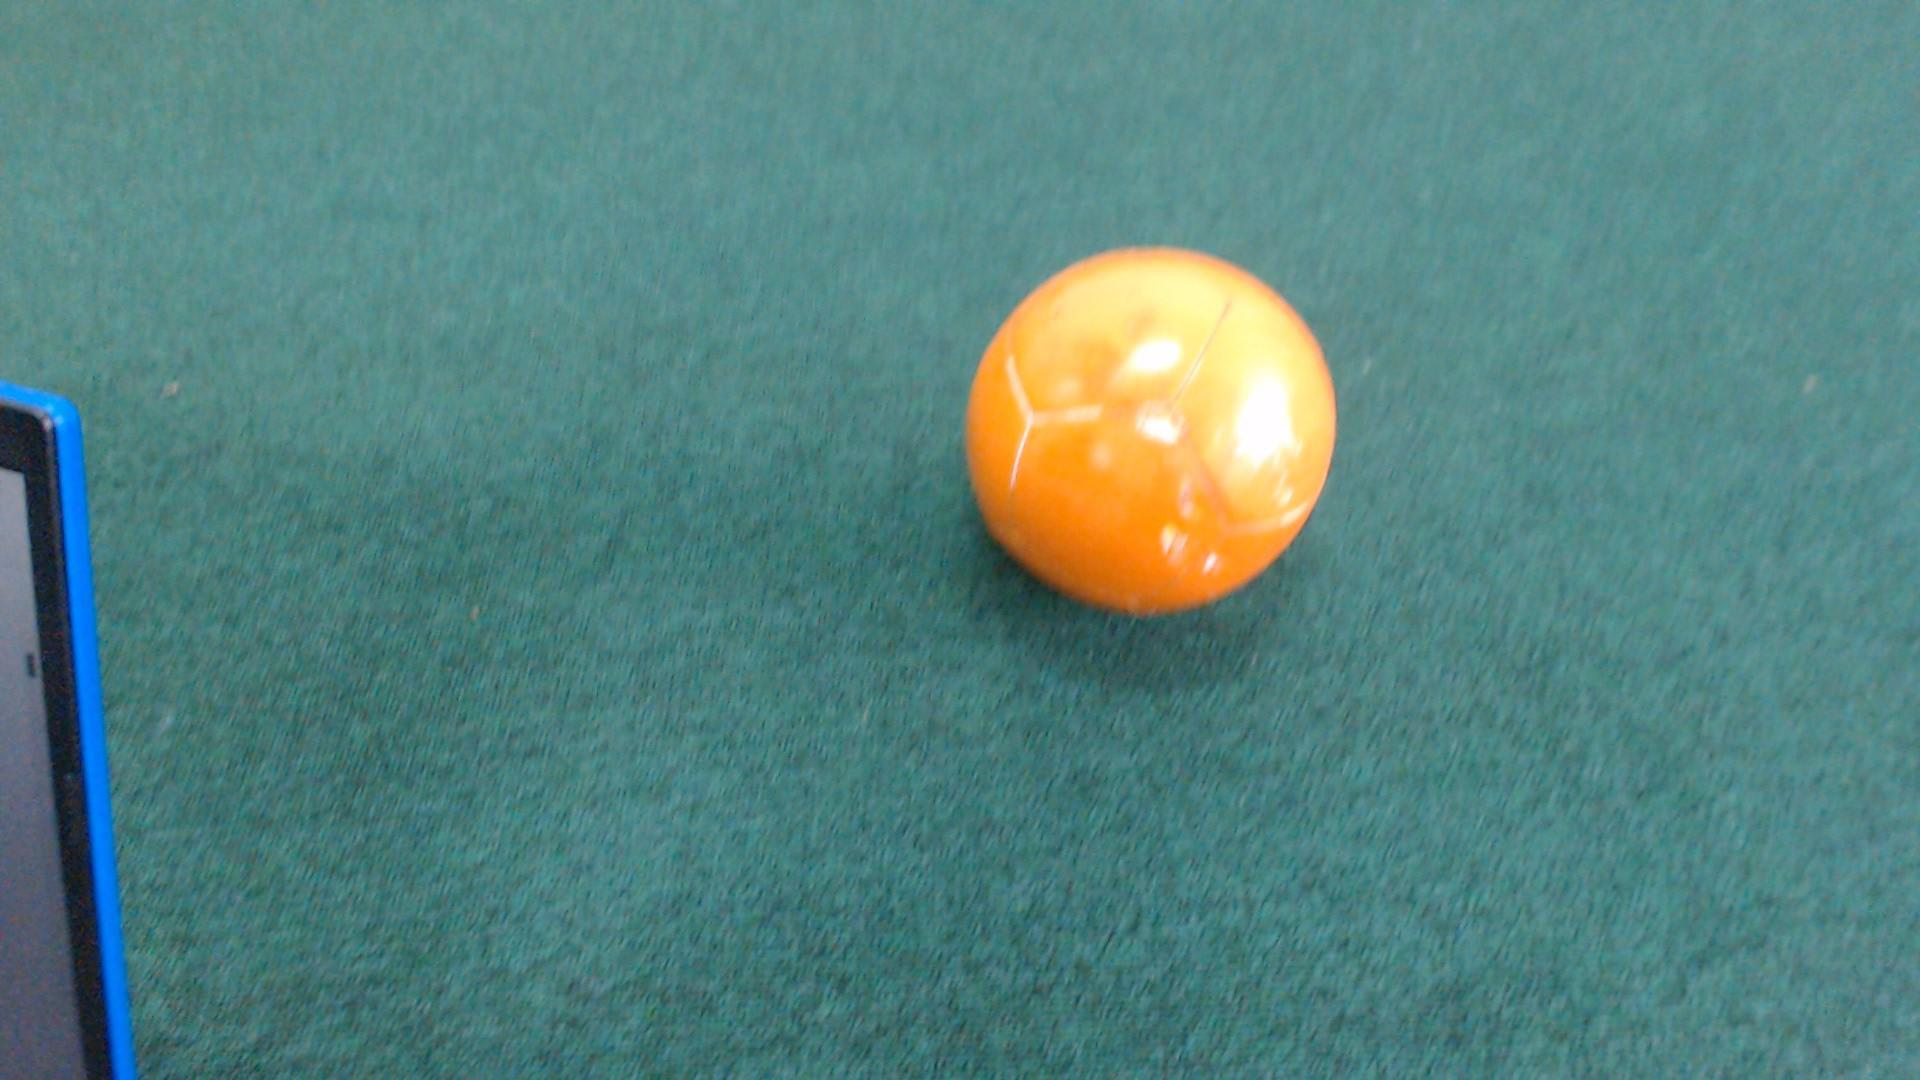bola: (902, 233, 1403, 621)
